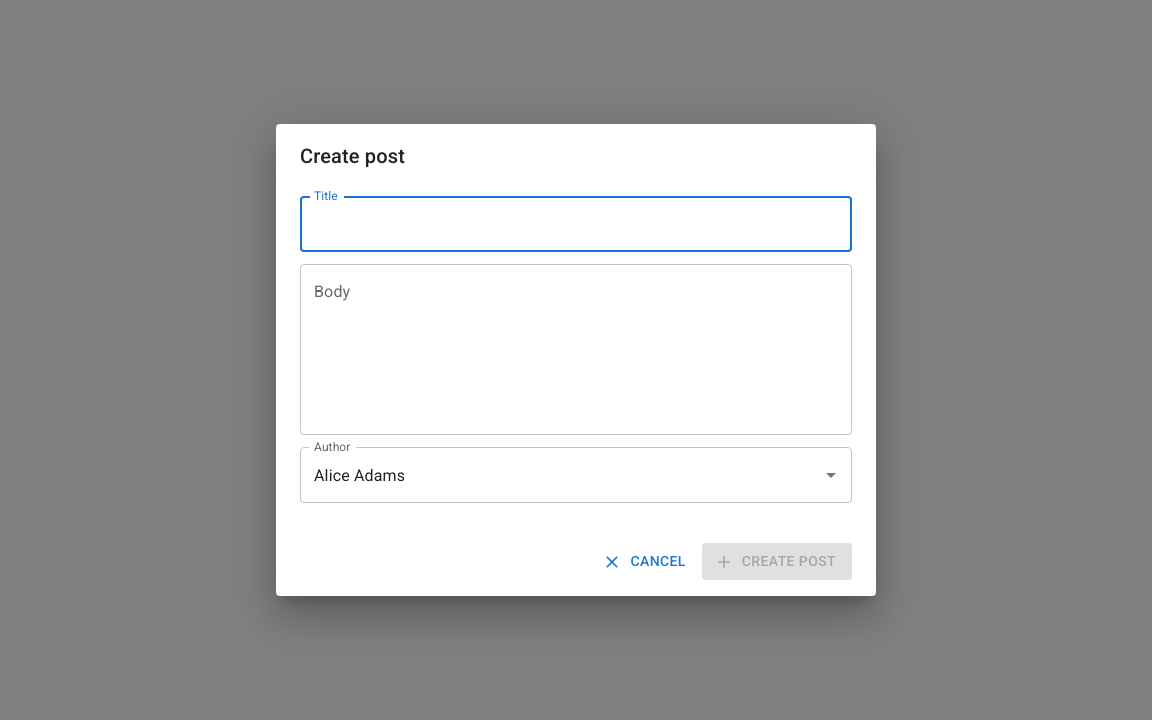
PostFormDialog (create mode) › filters the author list as the user types
The image size is (1152, 720).
Replace the text in the dropdown labelled "Author" with "Bob" at (561, 475), box [309,456,813,494]
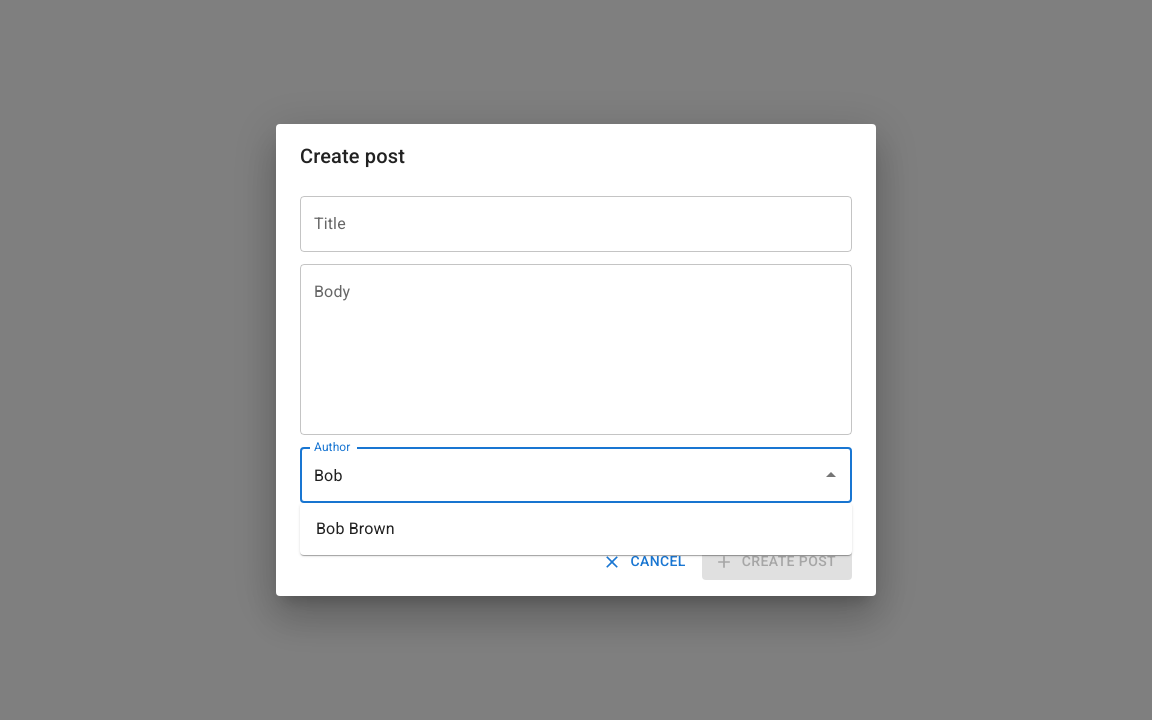
Check: the option "Bob Brown" is shown, box [316,519,395,538]
Check: the option "Alice Adams" is gone
